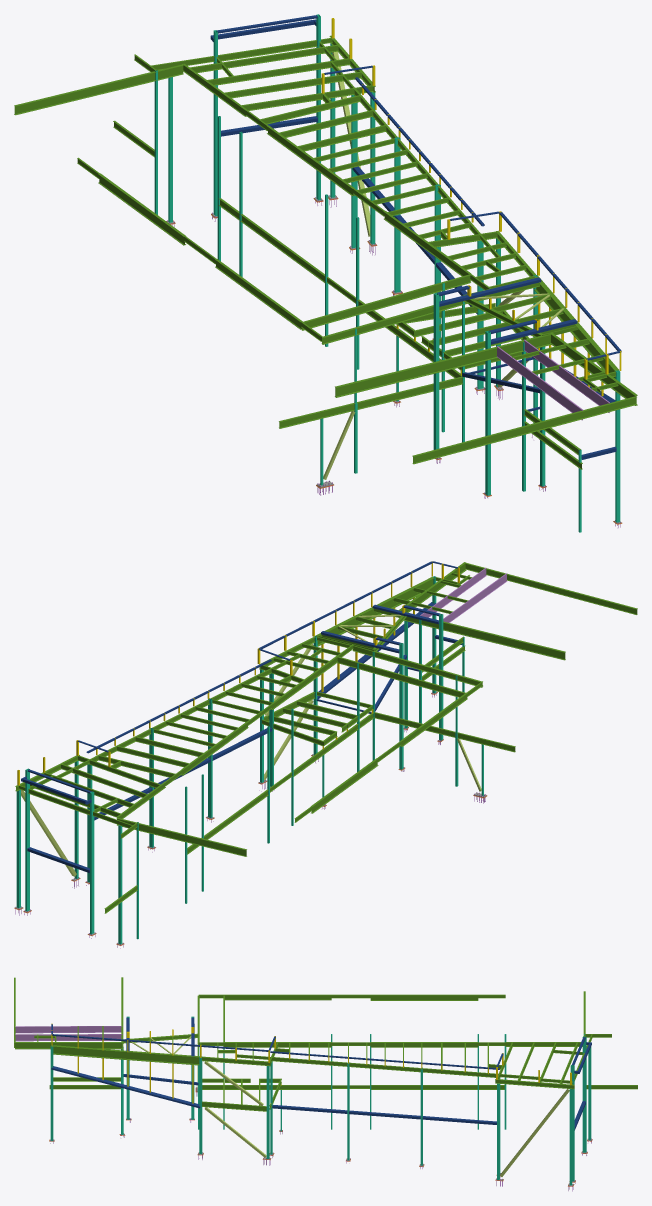
3 renders of one model, top to bottom at view 1: azimuth 30°, elevation 25°; view 2: azimuth 150°, elevation 25°; view 3: azimuth 270°, elevation 25°, orthographic. The views are drawn at different scales.
Parts seen in each view (by area): view 1: Mesh 652; view 2: Mesh 652; view 3: Mesh 652.
Boxes of the visible parts, x1=… form: Mesh 652: x1=14, y1=14, x2=637, y2=532; Mesh 652: x1=14, y1=561, x2=637, y2=948; Mesh 652: x1=14, y1=977, x2=637, y2=1191.
Size of the model in its own units: 22.82 by 11.56 by 53.49.
Materials: 1 (1 with a texture image).
